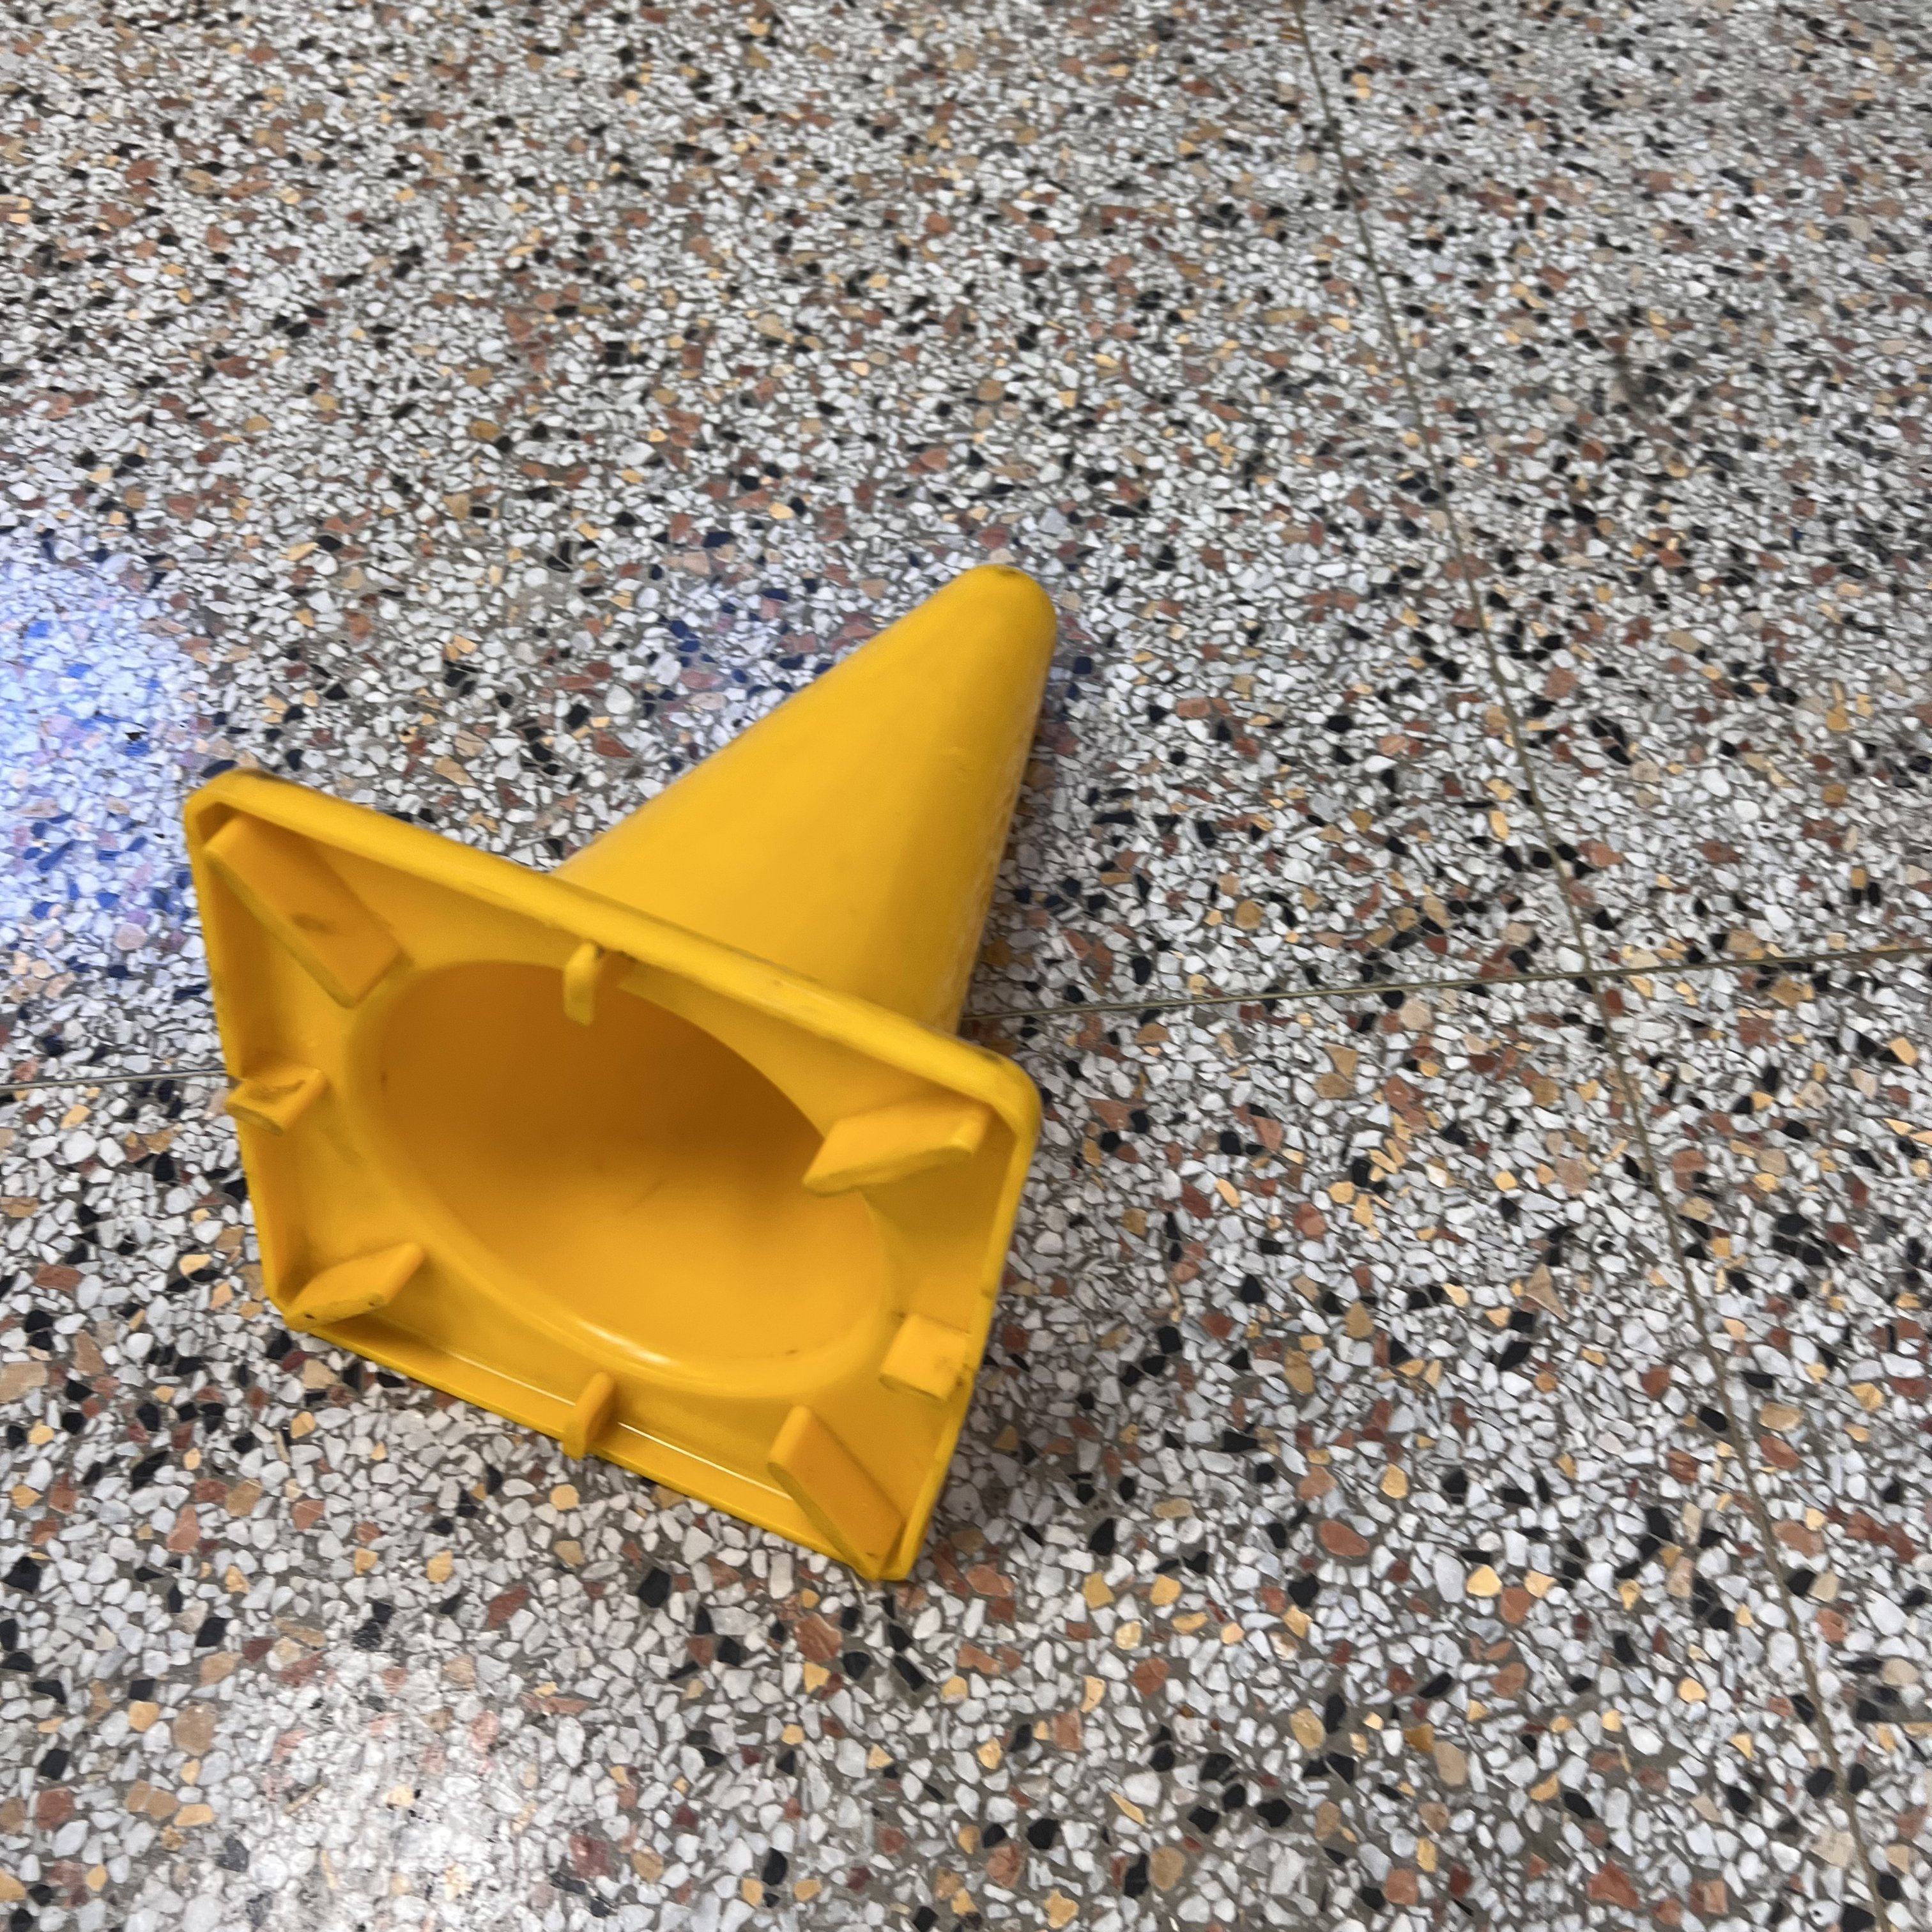cone: (182, 566, 1056, 1583)
